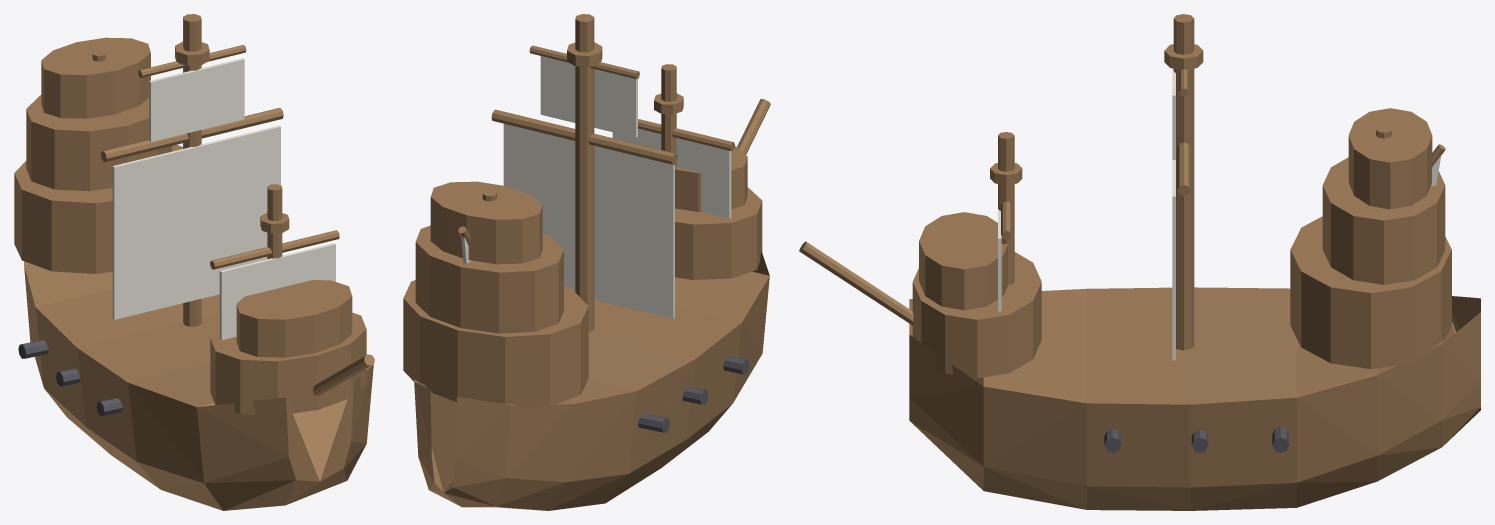
The model's file is Carrack.fbx.
3 views of the same model, side by side, from view 1: azimuth 30°, elevation 25°; view 2: azimuth 150°, elevation 25°; view 3: azimuth 270°, elevation 25° (orthographic). The views are drawn at different scales.
Visible parts, largest first — view 1: Carrack; view 2: Carrack; view 3: Carrack.
Boxes of the visible parts, x1,y1,x2,y2 form: Carrack: (14,14,374,510); Carrack: (403,14,770,510); Carrack: (799,14,1480,510).
Bounding box in the file's own units: 7.25 × 11.91 × 15.92.
